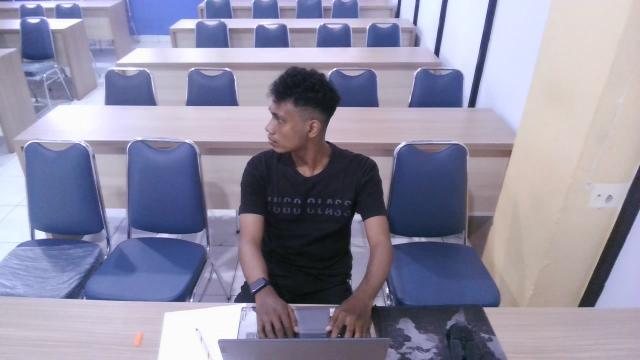Gaze_Aversion: (245, 61, 379, 191)
